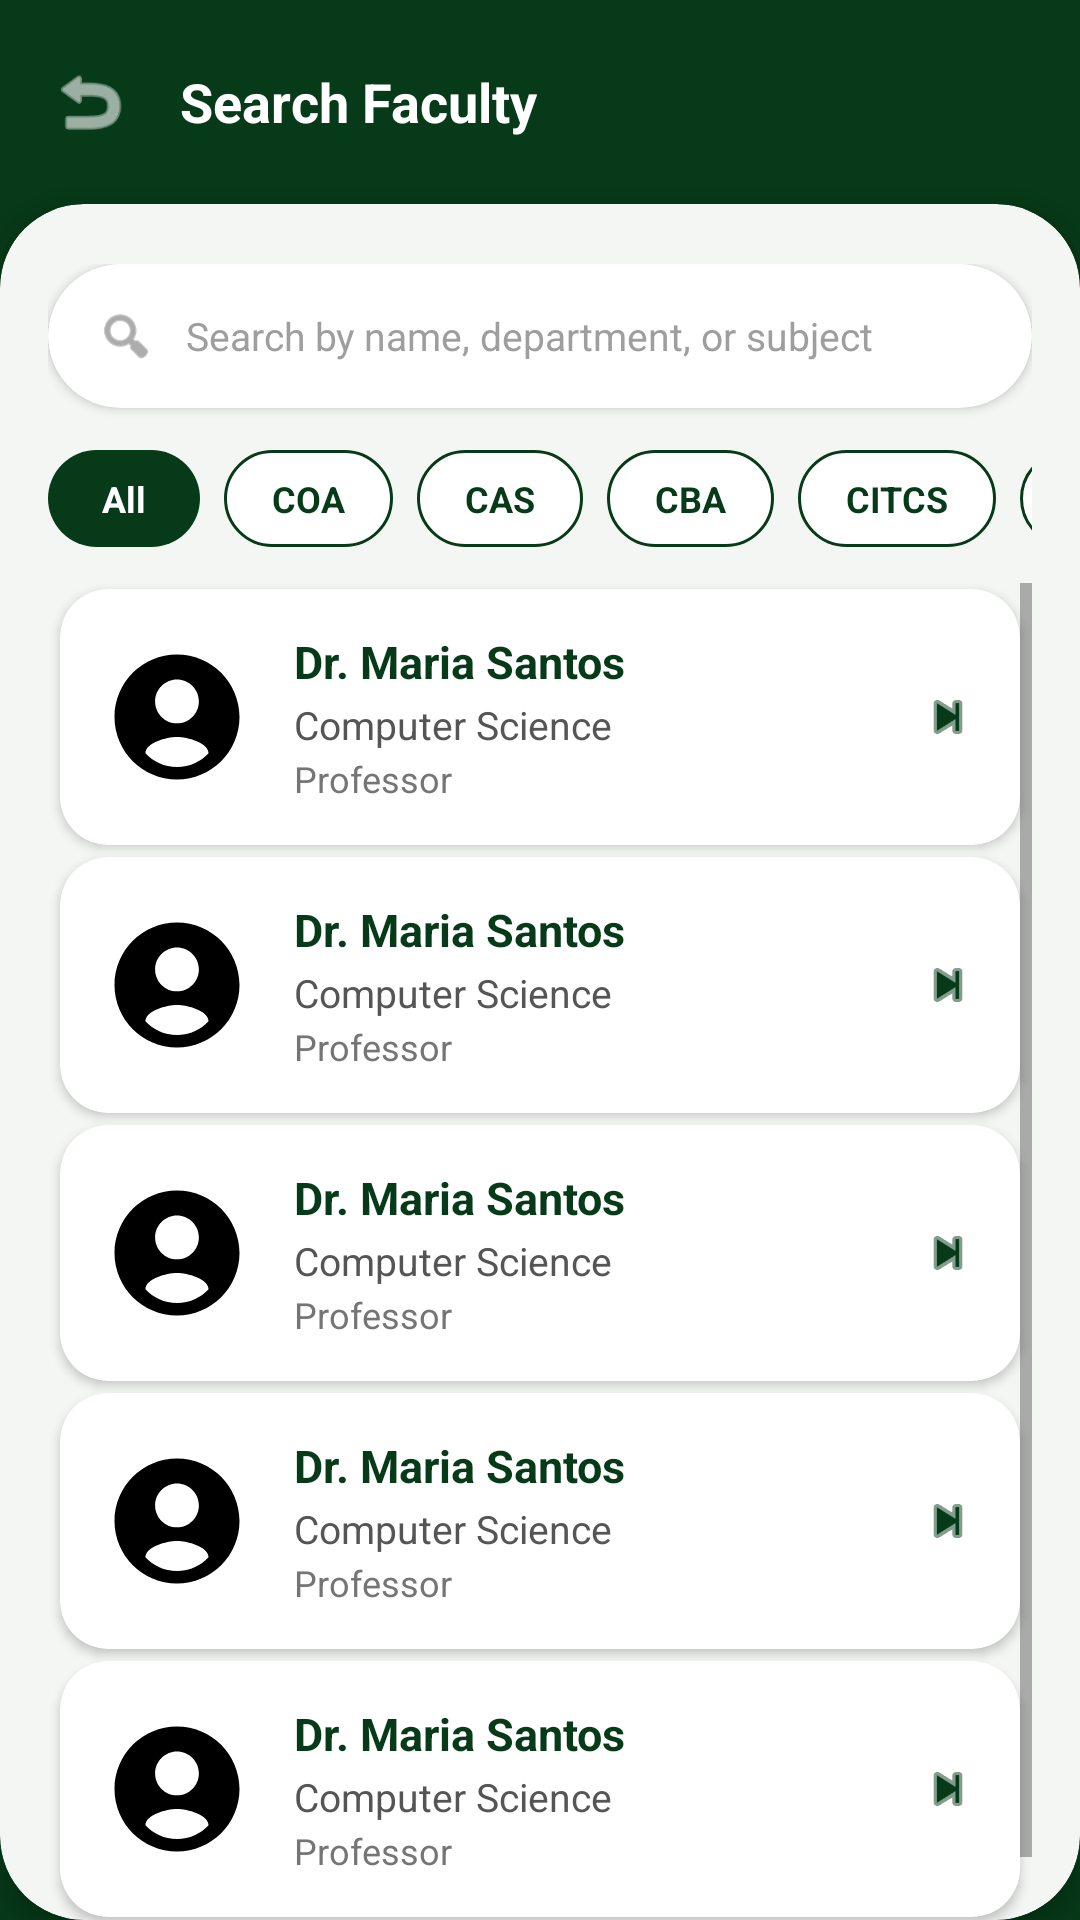

Point at icon controls on the screen. Image size 1080 × 1920, points as (x=x, y=y).
Faculty Avatar: (x=177, y=717), (x=177, y=985), (x=177, y=1253), (x=177, y=1521), (x=177, y=1789)
revert: (x=91, y=102)
